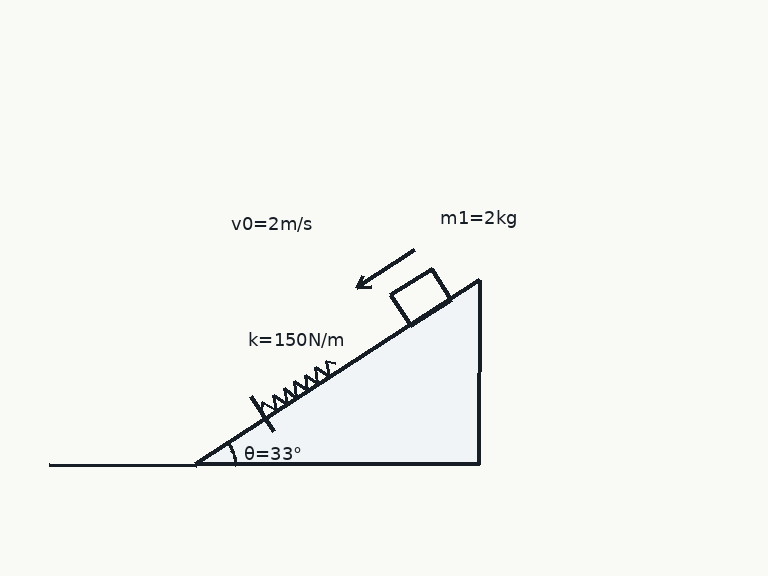block: (388, 267, 453, 327)
ramp: (193, 278, 481, 467)
spring: (259, 359, 337, 413)
